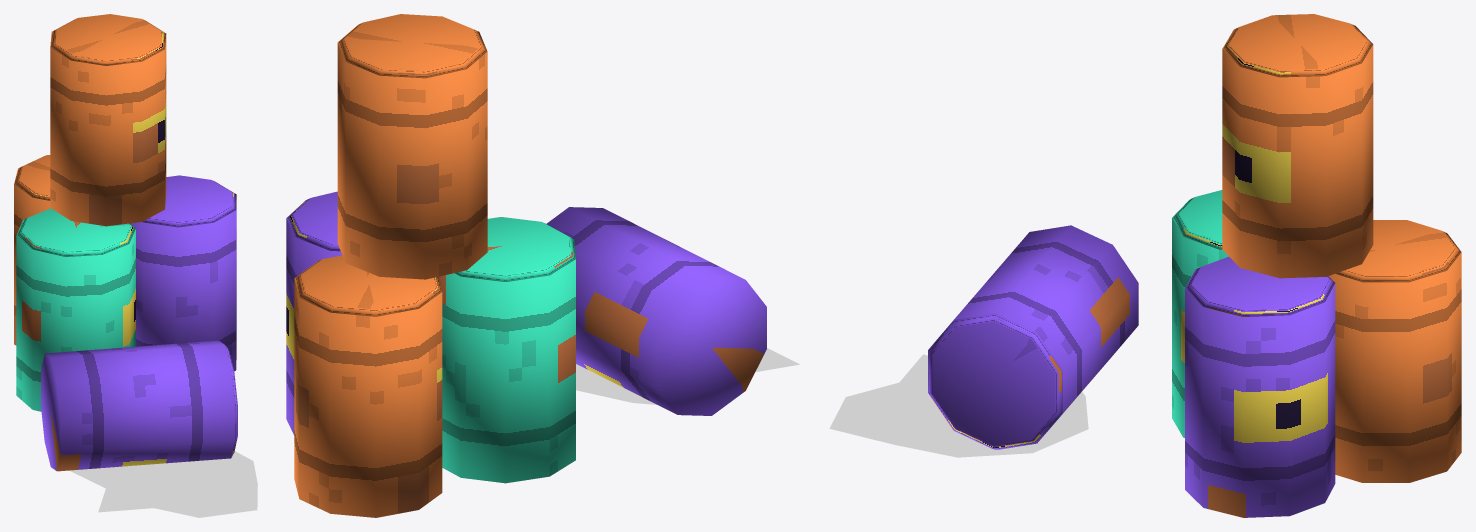
The model's file is Barrel Stack.fbx.
The picture shows the model from 3 angles, left to right: view 1: azimuth 30°, elevation 25°; view 2: azimuth 150°, elevation 25°; view 3: azimuth 270°, elevation 25°; orthographic projection. The views are drawn at different scales.
Parts seen in each view (by area): view 1: Barrel Stack drum tipped.001, Barrel Stack drum top.001, Barrel Stack drum 0.001, Barrel Stack drum 1.001, Barrel Stack goo, Barrel Stack drum top lid, Barrel Stack drum 0 lid, Barrel Stack drum 1 lid, Barrel Stack drum 2 lid, Barrel Stack drum 2.001, Barrel Stack drum tipped lid; view 2: Barrel Stack drum top.001, Barrel Stack drum 2.001, Barrel Stack drum tipped.001, Barrel Stack drum 0.001, Barrel Stack drum top lid, Barrel Stack drum 2 lid, Barrel Stack drum 0 lid, Barrel Stack drum 1.001, Barrel Stack drum 1 lid, Barrel Stack goo; view 3: Barrel Stack drum top.001, Barrel Stack drum 1.001, Barrel Stack drum 2.001, Barrel Stack drum tipped.001, Barrel Stack drum tipped lid, Barrel Stack goo, Barrel Stack drum top lid, Barrel Stack drum 1 lid, Barrel Stack drum 2 lid, Barrel Stack drum 0.001, Barrel Stack drum 0 lid.
Boxes of the visible parts, bbox=[...] form: Barrel Stack drum tipped.001: bbox=[41, 340, 234, 471]; Barrel Stack drum top.001: bbox=[50, 35, 166, 226]; Barrel Stack drum 0.001: bbox=[16, 229, 135, 411]; Barrel Stack drum 1.001: bbox=[130, 200, 236, 371]; Barrel Stack goo: bbox=[70, 451, 257, 517]; Barrel Stack drum top lid: bbox=[50, 14, 166, 65]; Barrel Stack drum 0 lid: bbox=[16, 208, 135, 256]; Barrel Stack drum 1 lid: bbox=[142, 175, 236, 227]; Barrel Stack drum 2 lid: bbox=[14, 155, 50, 200]; Barrel Stack drum 2.001: bbox=[14, 184, 50, 345]; Barrel Stack drum tipped lid: bbox=[225, 345, 237, 457]; Barrel Stack drum top.001: bbox=[337, 43, 487, 279]; Barrel Stack drum 2.001: bbox=[294, 278, 442, 517]; Barrel Stack drum tipped.001: bbox=[546, 207, 766, 415]; Barrel Stack drum 0.001: bbox=[439, 259, 575, 483]; Barrel Stack drum top lid: bbox=[337, 14, 487, 78]; Barrel Stack drum 2 lid: bbox=[294, 255, 442, 316]; Barrel Stack drum 0 lid: bbox=[454, 217, 575, 281]; Barrel Stack drum 1.001: bbox=[286, 218, 342, 435]; Barrel Stack drum 1 lid: bbox=[286, 191, 340, 251]; Barrel Stack goo: bbox=[576, 348, 799, 404]; Barrel Stack drum top.001: bbox=[1222, 44, 1373, 278]; Barrel Stack drum 1.001: bbox=[1185, 283, 1335, 517]; Barrel Stack drum 2.001: bbox=[1328, 252, 1461, 482]; Barrel Stack drum tipped.001: bbox=[954, 225, 1138, 433]; Barrel Stack drum tipped lid: bbox=[928, 313, 1062, 449]; Barrel Stack goo: bbox=[829, 354, 1088, 457]; Barrel Stack drum top lid: bbox=[1222, 14, 1372, 77]; Barrel Stack drum 1 lid: bbox=[1185, 256, 1334, 316]; Barrel Stack drum 2 lid: bbox=[1335, 220, 1461, 282]; Barrel Stack drum 0.001: bbox=[1172, 218, 1228, 437]; Barrel Stack drum 0 lid: bbox=[1172, 190, 1222, 249].
Size of the model in its own units: 1.56 by 1.8 by 2.51.
4 materials, 3 textured.
